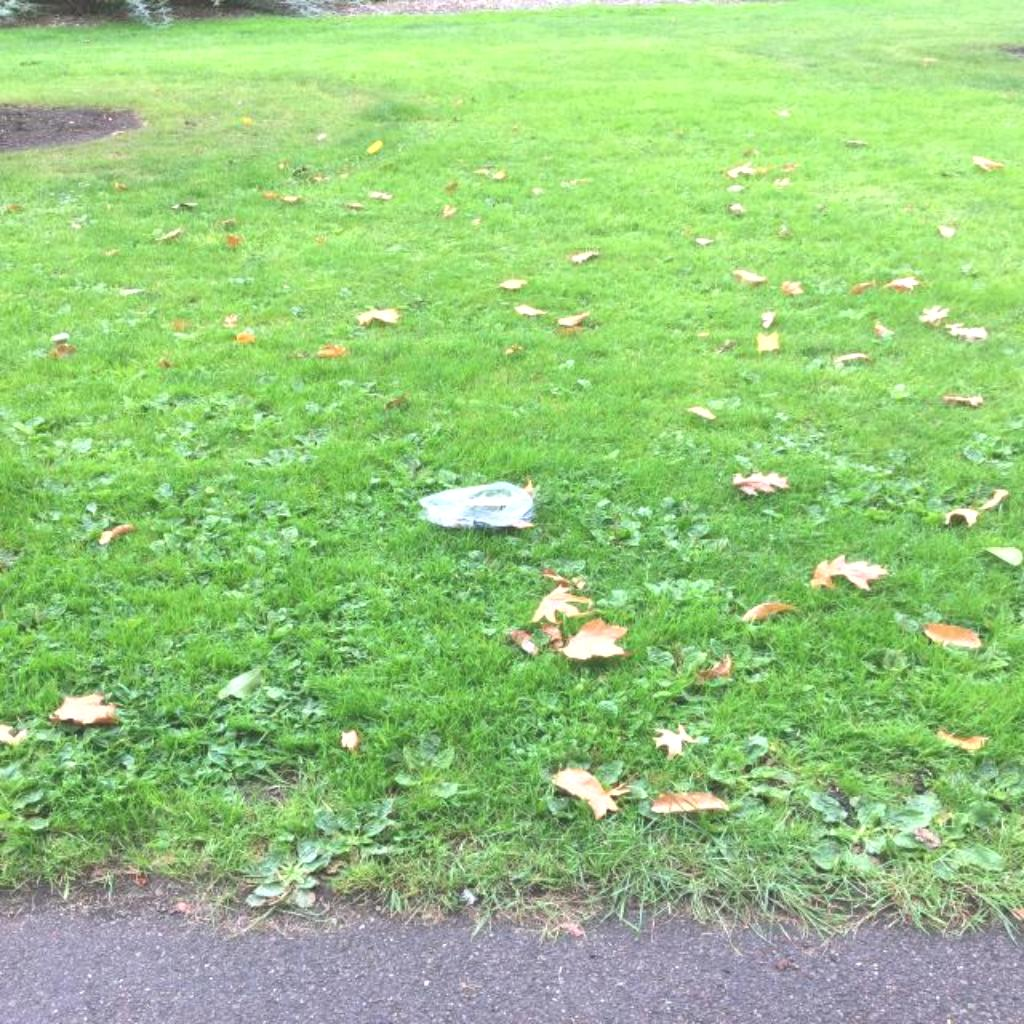garbage: (418, 480, 533, 531)
